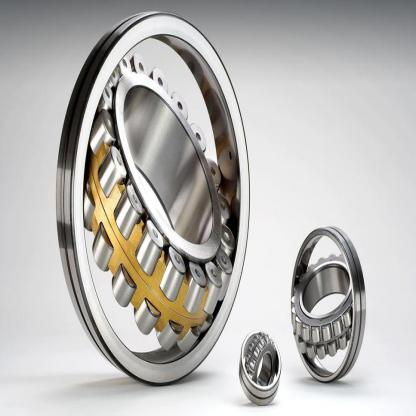FOD: (54, 4, 251, 390)
